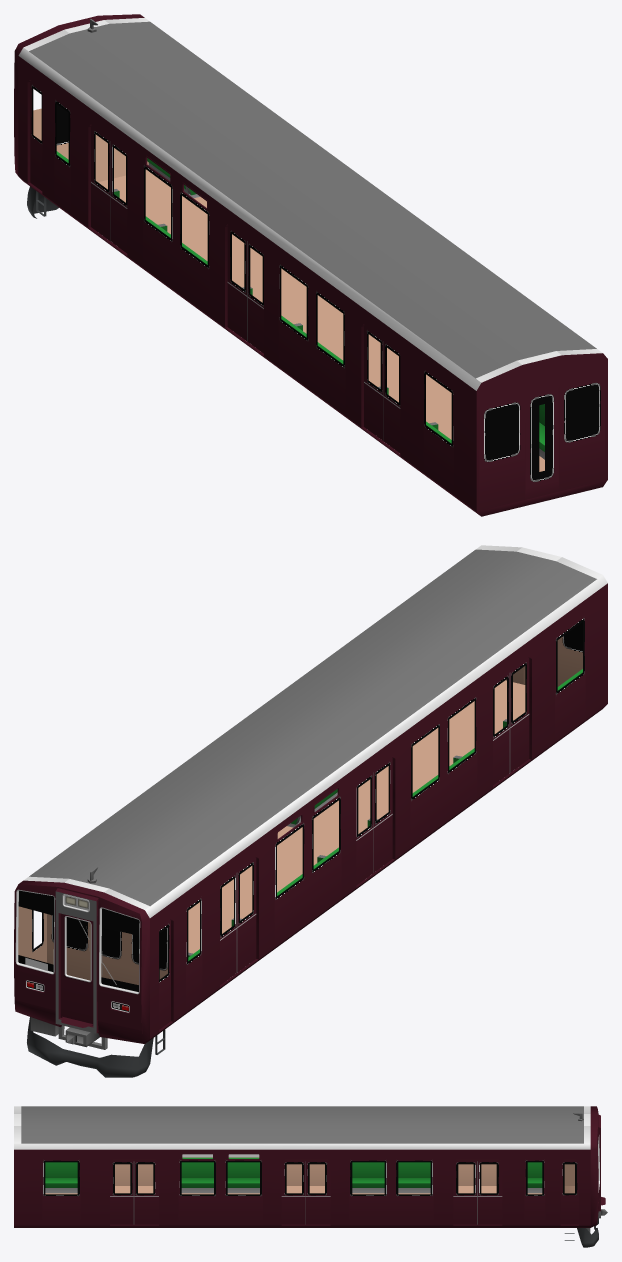
The model's file is HANKYU8200_3.glb.
The picture shows the model from 3 angles, top to bottom: view 1: azimuth 30°, elevation 25°; view 2: azimuth 150°, elevation 25°; view 3: azimuth 270°, elevation 25°; orthographic projection. The views are drawn at different scales.
Visible parts, largest first — view 1: front1; view 2: front1; view 3: front1.
Boxes of the visible parts, box(x1,y1,x2,y2) form: front1: box(14, 14, 607, 516); front1: box(14, 545, 607, 1077); front1: box(14, 1106, 607, 1247).
Size of the model in its own units: 6.25 by 8.7 by 38.73.
13 materials, 12 textured.
